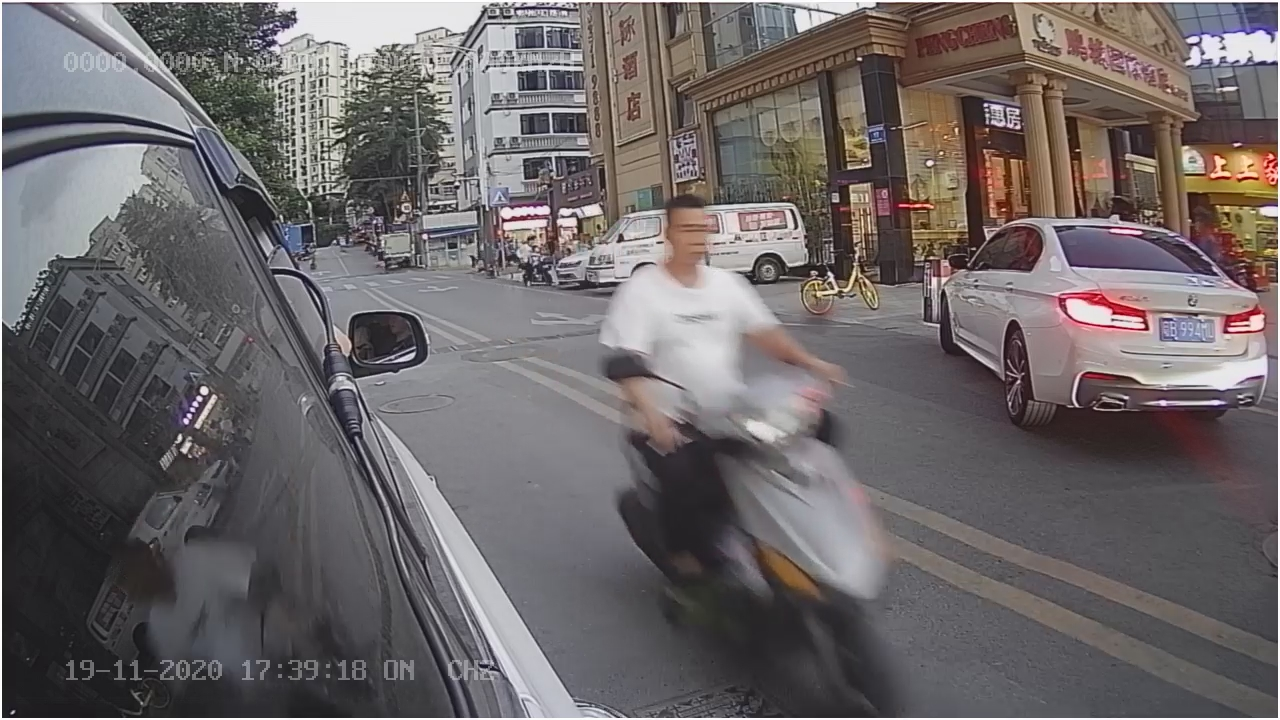person: (606, 198, 764, 417)
